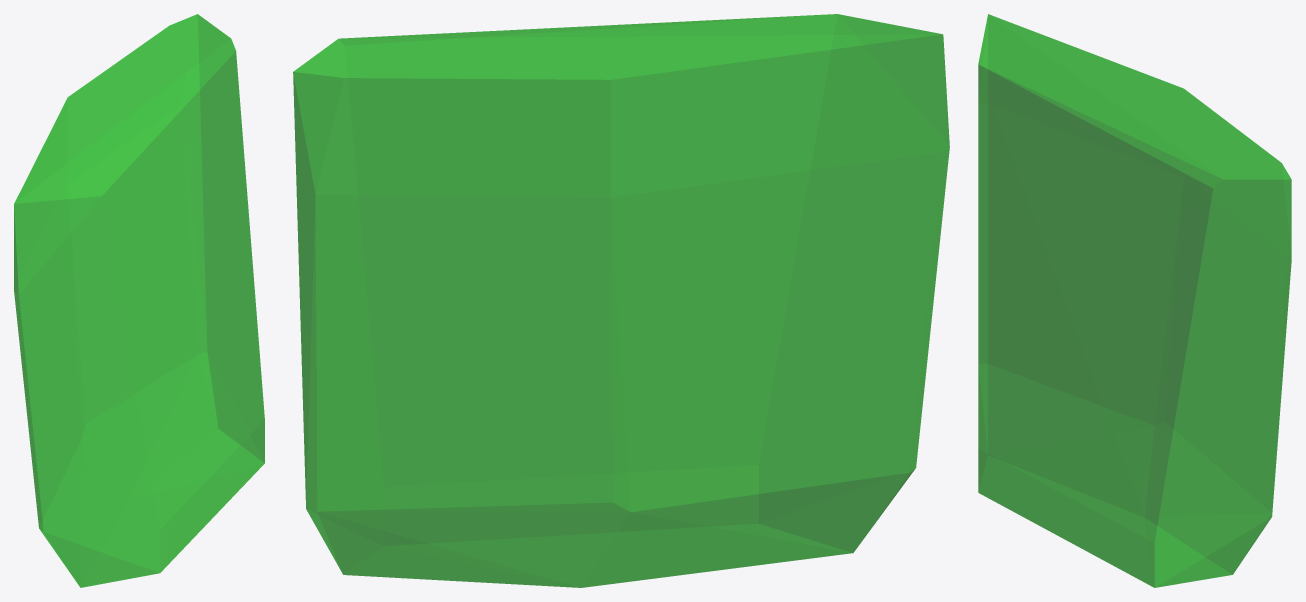
3 renders of one model, left to right at view 1: azimuth 30°, elevation 25°; view 2: azimuth 150°, elevation 25°; view 3: azimuth 270°, elevation 25°, orthographic. The views are drawn at different scales.
Visible parts, largest first — view 1: Shape_IndexedFaceSet.034_Shape_IndexedFaceSet.6441; view 2: Shape_IndexedFaceSet.034_Shape_IndexedFaceSet.6441; view 3: Shape_IndexedFaceSet.034_Shape_IndexedFaceSet.6441.
Boxes of the visible parts, x1,y1,x2,y2 form: Shape_IndexedFaceSet.034_Shape_IndexedFaceSet.6441: (14,14,264,587); Shape_IndexedFaceSet.034_Shape_IndexedFaceSet.6441: (293,14,949,587); Shape_IndexedFaceSet.034_Shape_IndexedFaceSet.6441: (978,14,1291,587).
Bounding box in the file's own units: 0.2548 × 0.293 × 0.2038.
